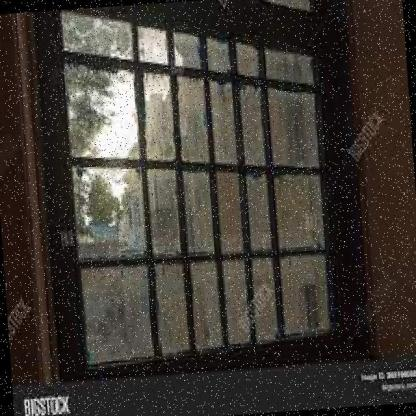Window: (31, 0, 350, 379)
